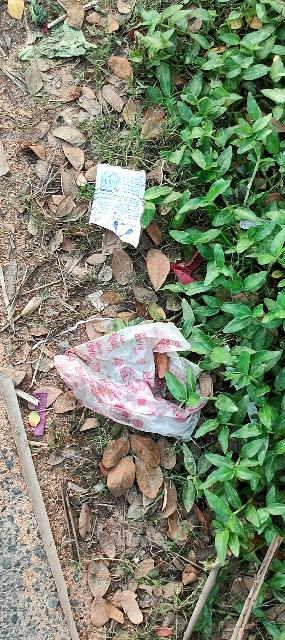polythene: (48, 302, 237, 479)
